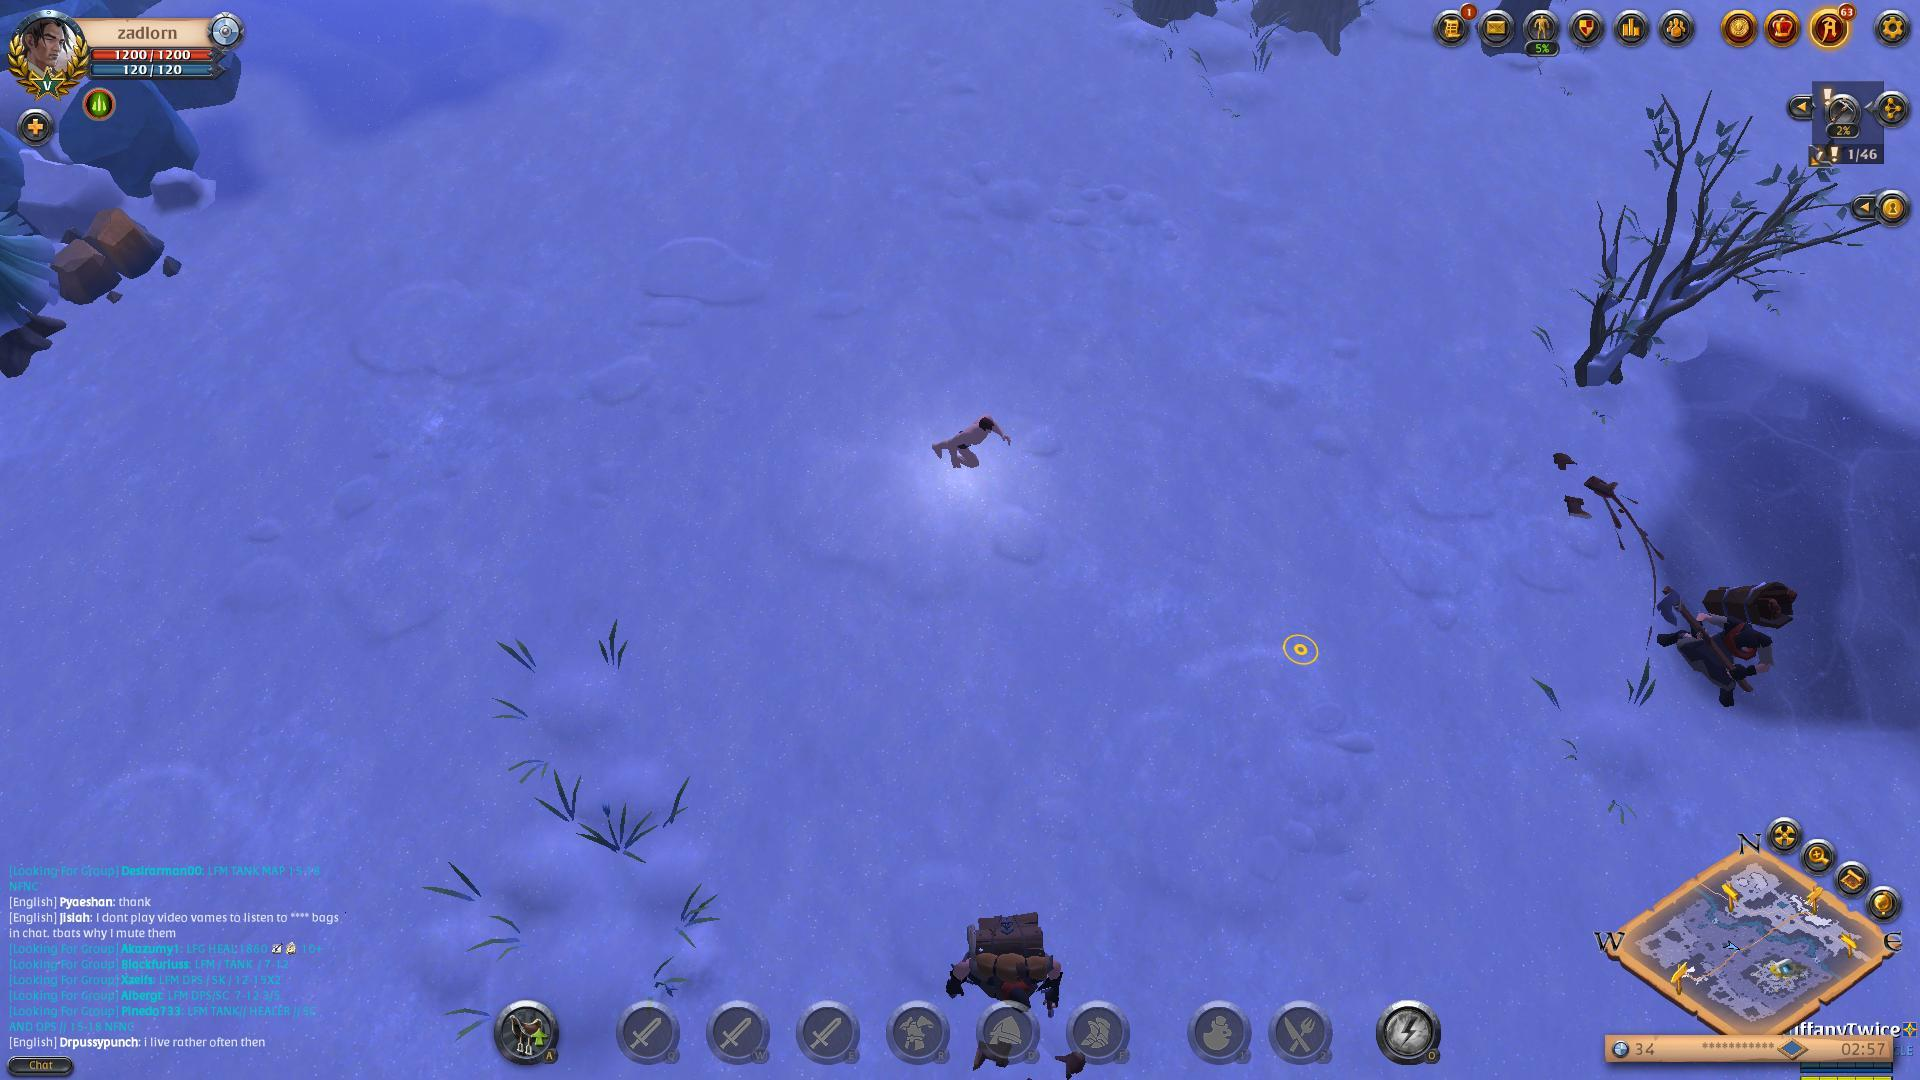limestone: (57, 196, 177, 315)
mob: (1650, 567, 1801, 719), (942, 902, 1085, 1013)
